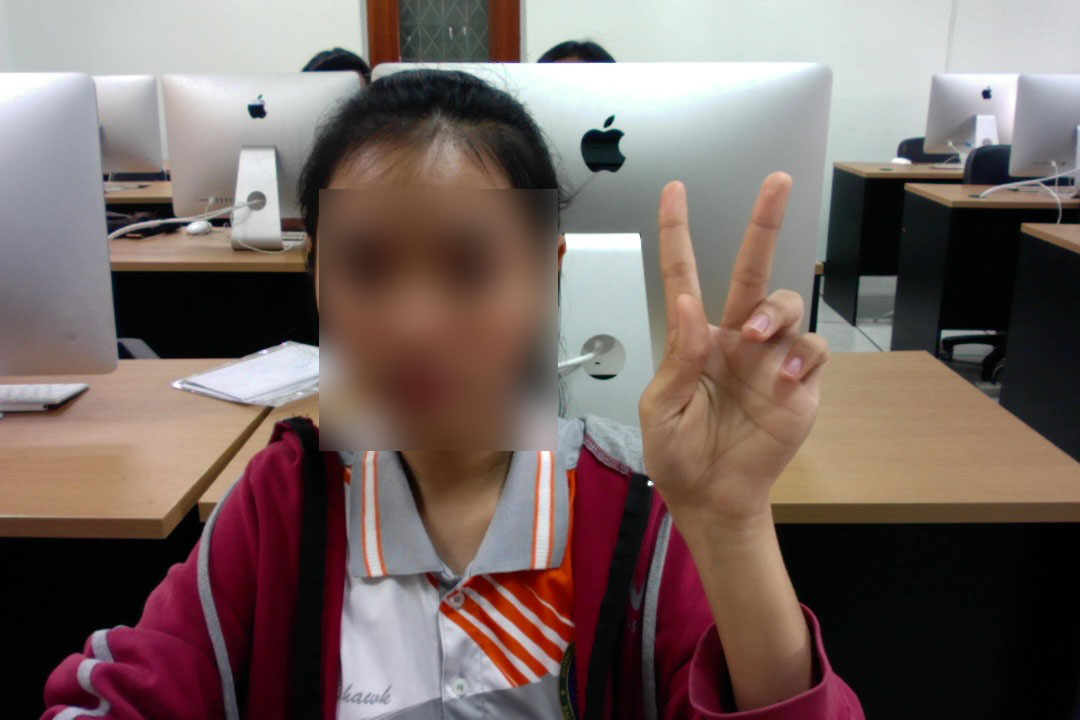ko: (631, 168, 841, 536)
